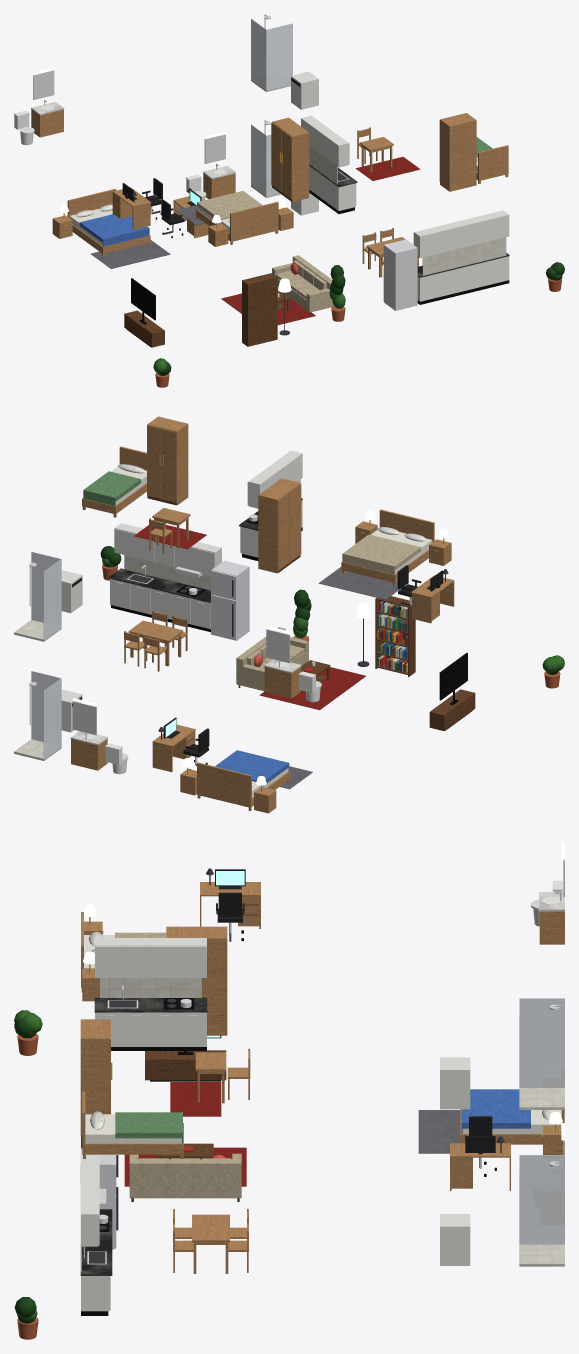
The model's file is i_green_roof_house.gltf.
3 renders of one model, top to bottom at view 1: azimuth 30°, elevation 25°; view 2: azimuth 150°, elevation 25°; view 3: azimuth 270°, elevation 25°, orthographic. The views are drawn at different scales.
Parts seen in each view (by area): view 1: I_green_roof_house; view 2: I_green_roof_house; view 3: I_green_roof_house.
Boxes of the visible parts, <box> form: I_green_roof_house: <box>14,14,564,387</box>; I_green_roof_house: <box>14,416,564,813</box>; I_green_roof_house: <box>14,842,564,1339</box>.
Size of the model in its own units: 13.77 by 5.6 by 10.83.
34 materials, 13 textured.
